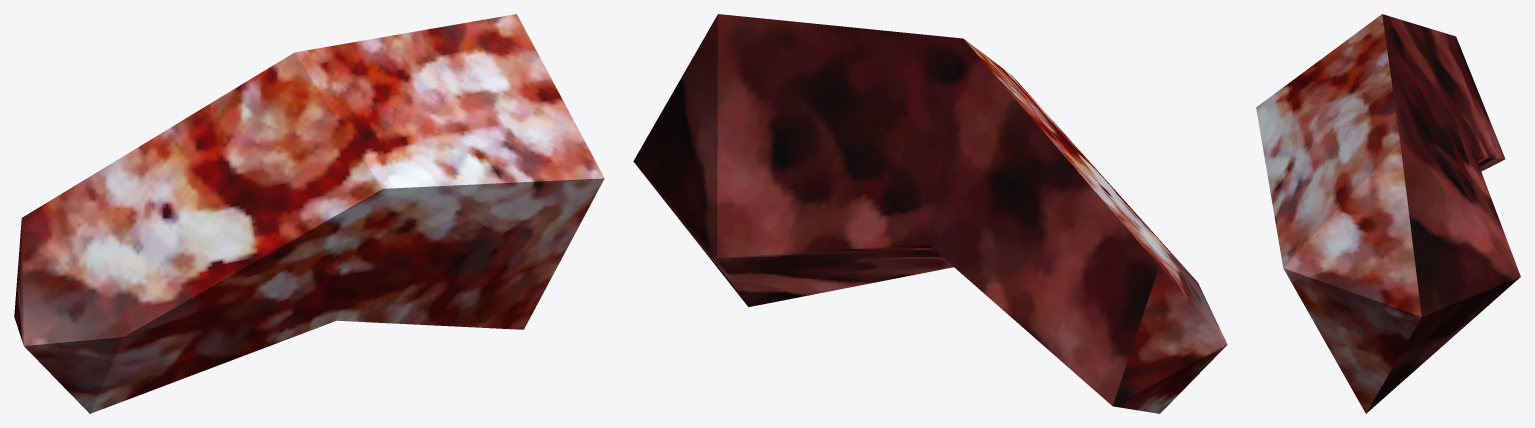
Rendered from WendigoPieceOfFlesh3.fbx.
3 views of the same model, side by side, from view 1: azimuth 30°, elevation 25°; view 2: azimuth 150°, elevation 25°; view 3: azimuth 270°, elevation 25° (orthographic). The views are drawn at different scales.
Visible parts, largest first — view 1: PieceOfFlesh3; view 2: PieceOfFlesh3; view 3: PieceOfFlesh3.
Boxes of the visible parts, x1,y1,x2,y2 form: PieceOfFlesh3: [14, 14, 604, 413]; PieceOfFlesh3: [633, 14, 1227, 413]; PieceOfFlesh3: [1256, 14, 1520, 413].
Size of the model in its own units: 199 by 108 by 86.66.
